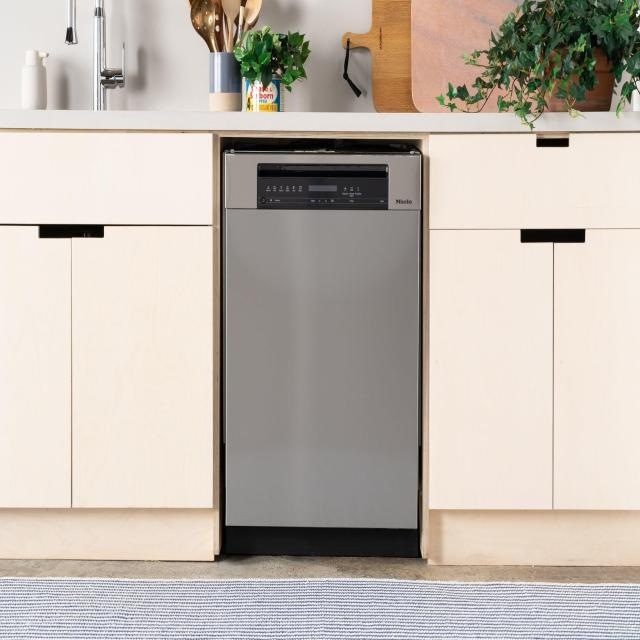dishwasher: (222, 134, 435, 556)
